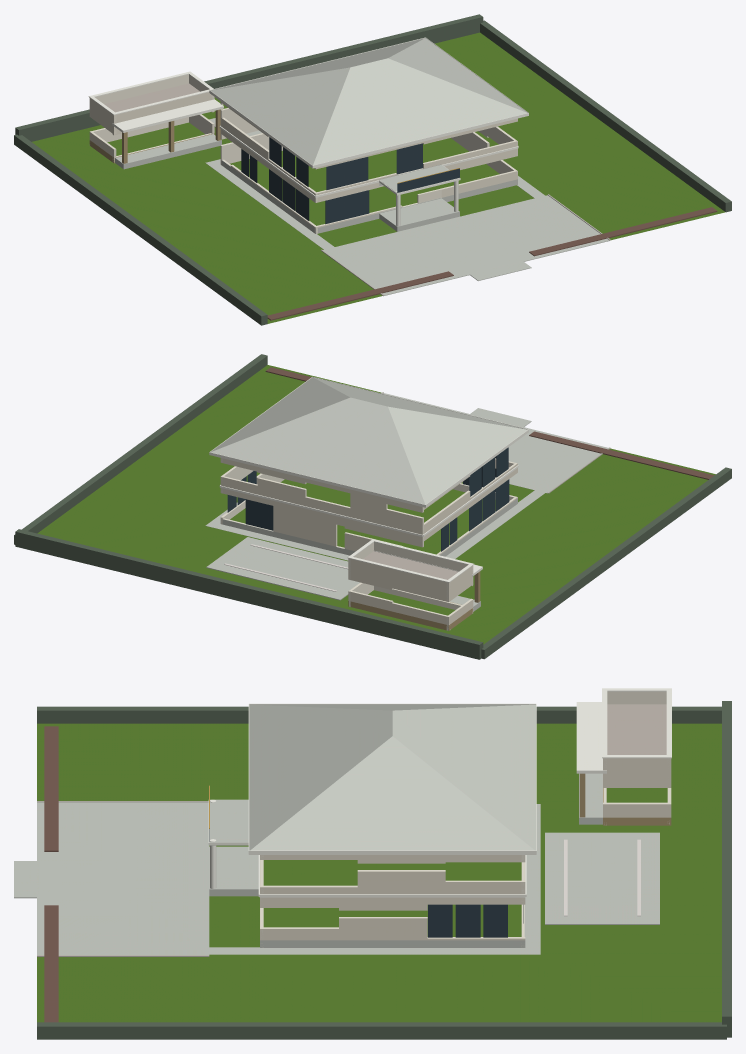
Rendered from est_S2_lod1.glb.
The picture shows the model from 3 angles, top to bottom: view 1: azimuth 30°, elevation 25°; view 2: azimuth 150°, elevation 25°; view 3: azimuth 270°, elevation 25°; orthographic projection. The views are drawn at different scales.
Parts seen in each view (by area): view 1: GR_est_S2_lod1; view 2: GR_est_S2_lod1; view 3: GR_est_S2_lod1.
Part boxes in pixels (<box>): GR_est_S2_lod1: <box>14,14,731,325</box>; GR_est_S2_lod1: <box>14,354,731,659</box>; GR_est_S2_lod1: <box>14,688,731,1039</box>.
Size of the model in its own units: 52.7 by 13.45 by 49.95.
3 materials, 1 textured.
